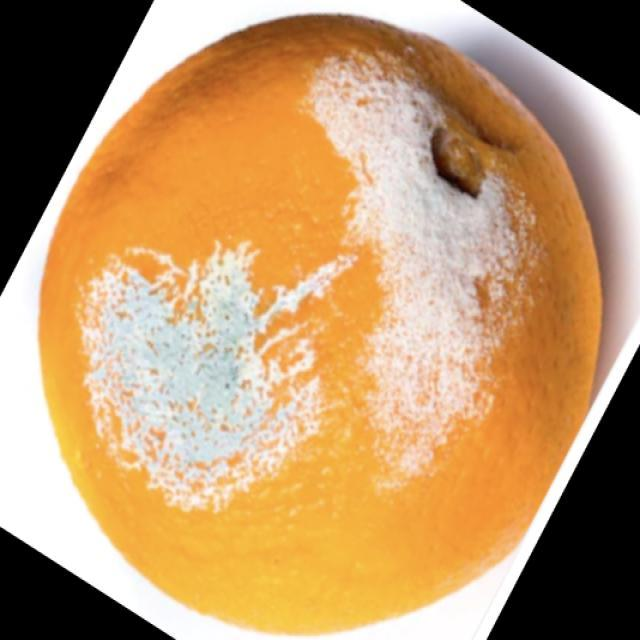sedikit-busuk: (40, 15, 601, 633)
